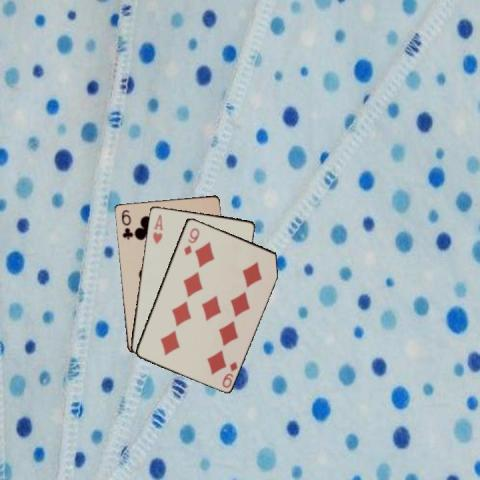6c: (118, 206, 133, 241)
9d: (218, 358, 238, 389), (181, 225, 200, 256)
Ah: (149, 212, 164, 246)
